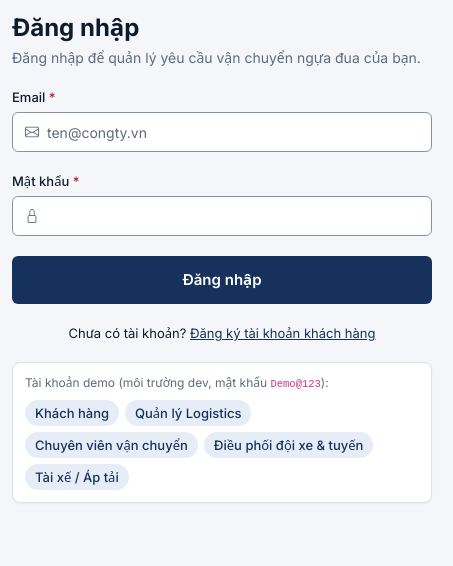
Test: LoginPage › submit rỗng → báo lỗi từng trường, không gọi API
The image size is (453, 566).
Step 1. Click the button "Đăng nhập" → (222, 280), box [12,256,432,304]
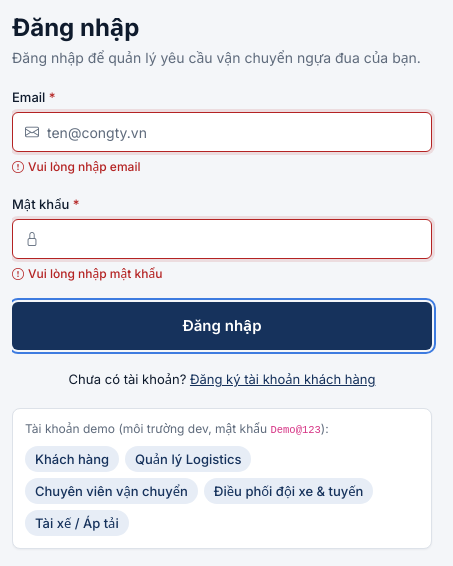
Expected: the text "Vui lòng nhập email" is shown, [12,158,140,175]
Expected: the text "Vui lòng nhập mật khẩu" is shown, [12,266,162,282]
